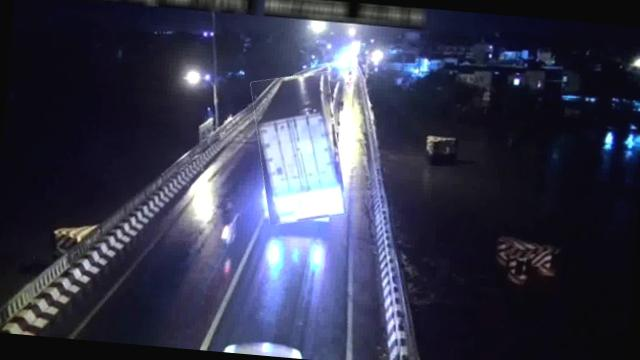Truck: (246, 68, 352, 228)
